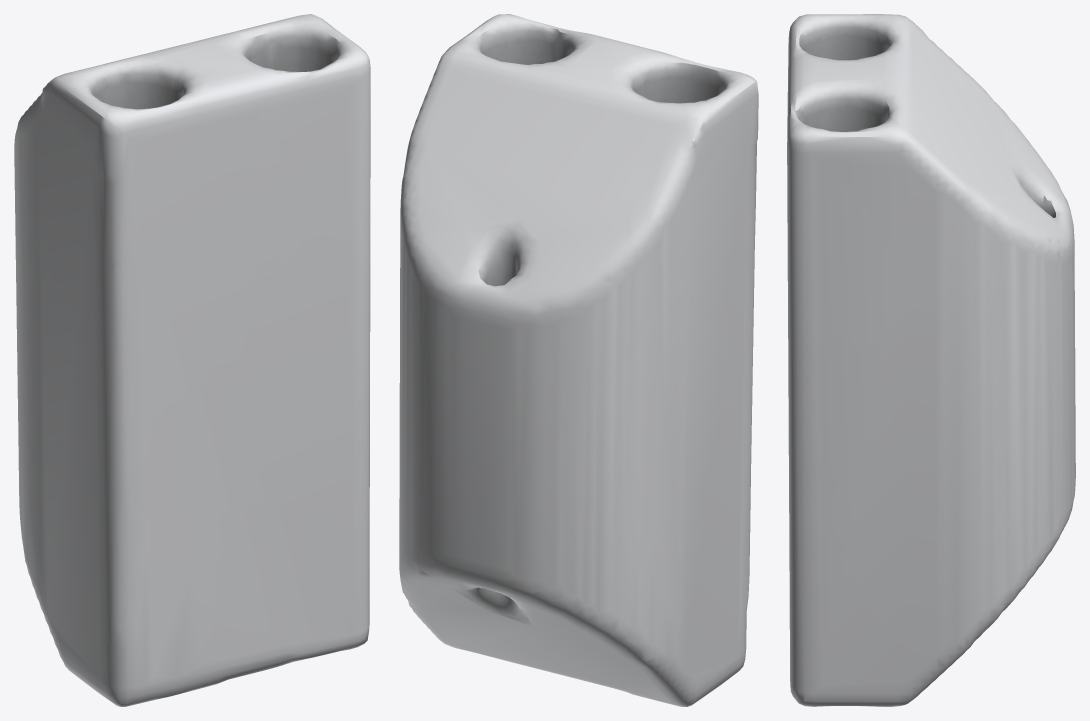
File: left_finger3_lower.glb
3 renders of one model, left to right at view 1: azimuth 30°, elevation 25°; view 2: azimuth 150°, elevation 25°; view 3: azimuth 270°, elevation 25°, orthographic. The views are drawn at different scales.
Visible parts, largest first — view 1: left_finger3_lower; view 2: left_finger3_lower; view 3: left_finger3_lower.
Boxes of the visible parts, bbox=[...] form: left_finger3_lower: bbox=[14, 14, 370, 706]; left_finger3_lower: bbox=[399, 14, 758, 706]; left_finger3_lower: bbox=[787, 14, 1075, 706].
Bounding box in the file's own units: 0.0117 × 0.0251 × 0.0113.
Materials: 1 (1 with a texture image).
